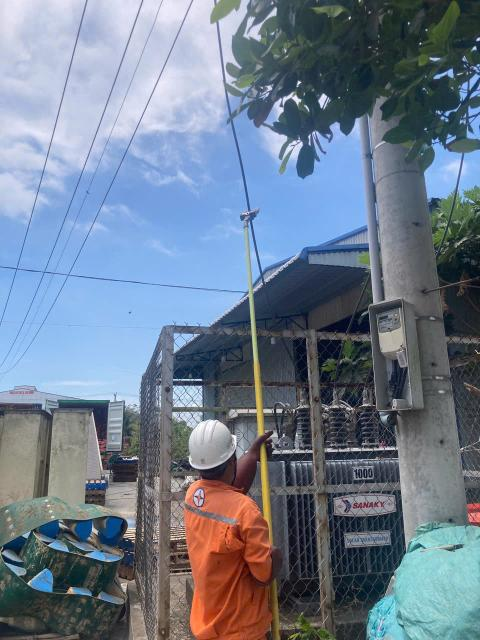gloves: (231, 424, 282, 484), (257, 542, 285, 586)
helmet: (173, 420, 234, 472)
